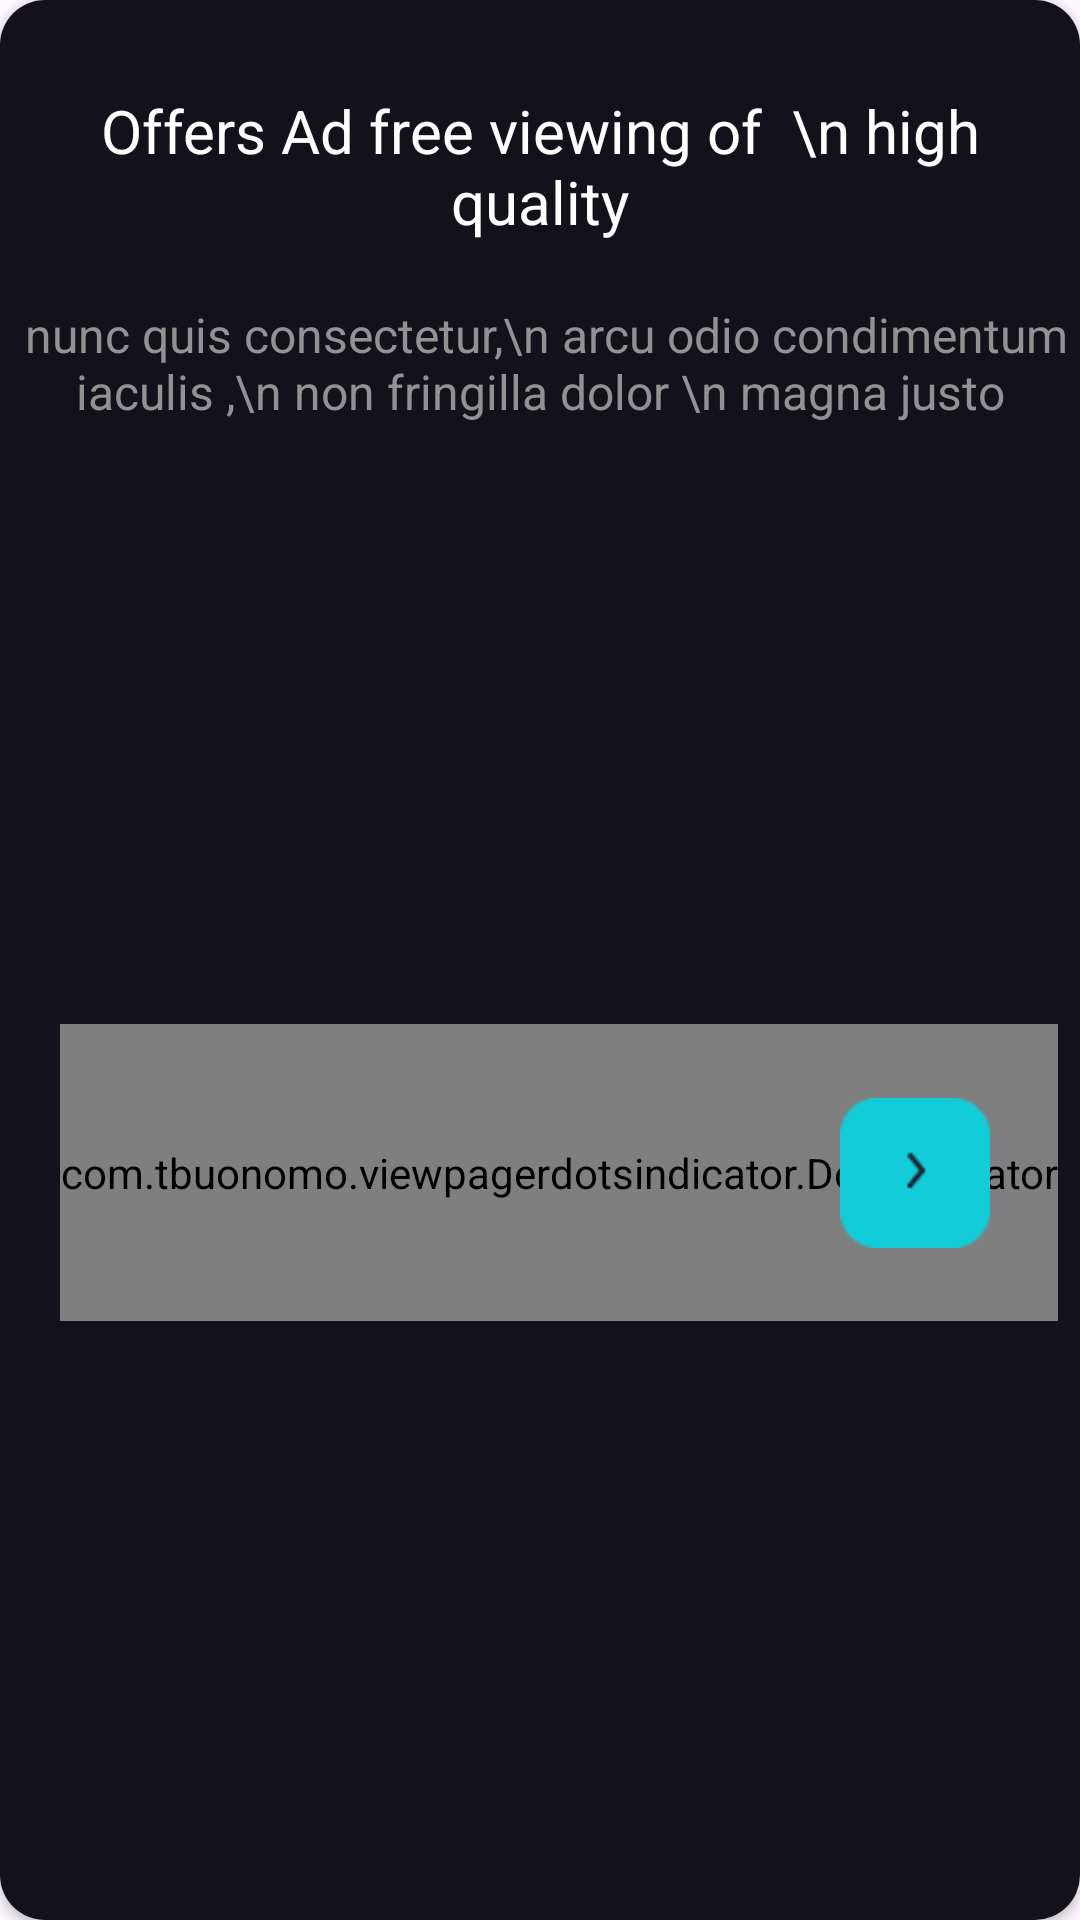

Named icons in this screenshot (1080*1920) and their centers, [x,y]:
next: [915,1173]
